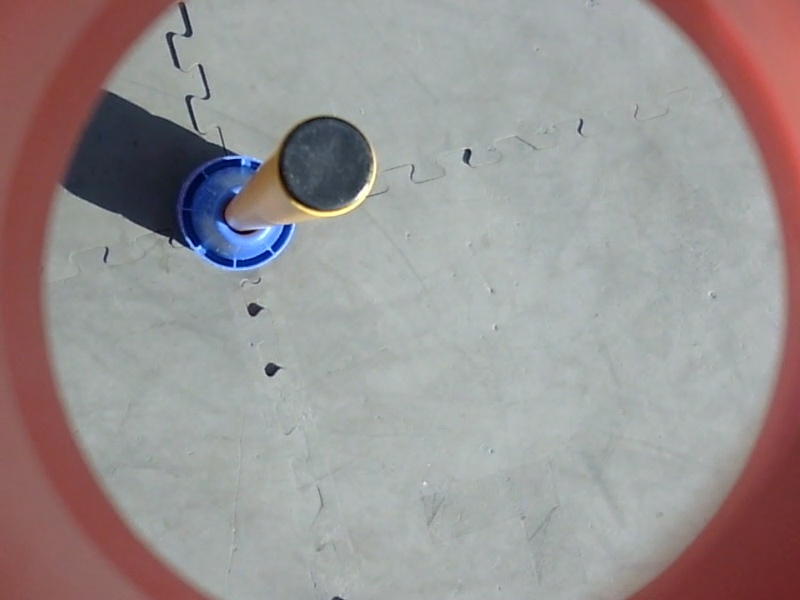tip: (272, 111, 382, 221)
